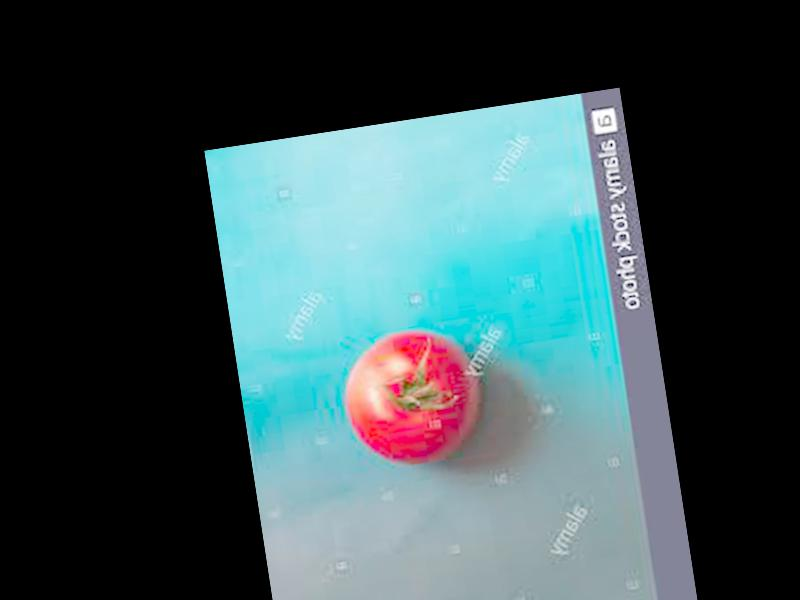Tomato: (335, 322, 489, 471)
